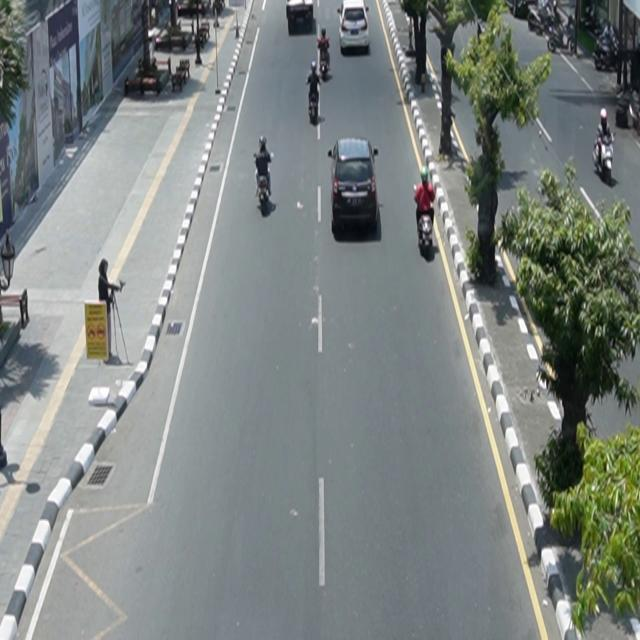car: (328, 138, 380, 235), (337, 1, 370, 54)
